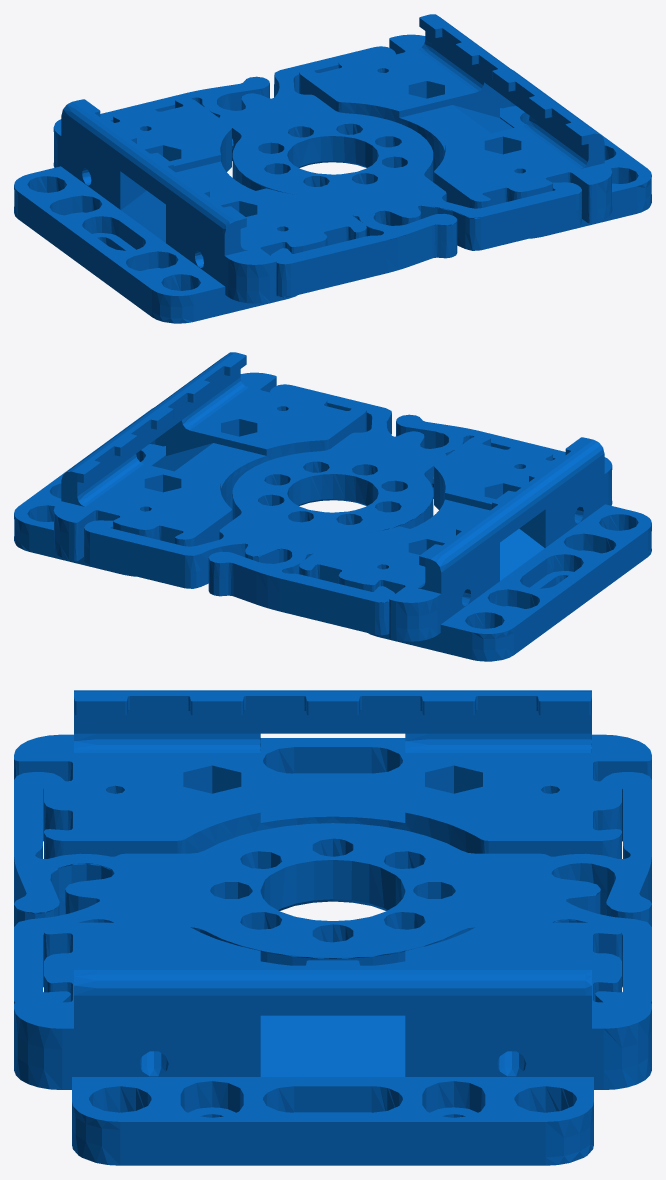
The model's file is qb_base_flange_m.dae.
3 renders of one model, top to bottom at view 1: azimuth 30°, elevation 25°; view 2: azimuth 150°, elevation 25°; view 3: azimuth 270°, elevation 25°, orthographic. The views are drawn at different scales.
Visible parts, largest first — view 1: Body_1, Body_2, Body_3, Body_5, Body_4; view 2: Body_1, Body_2, Body_3, Body_5, Body_4; view 3: Body_3, Body_2, Body_1, Body_4, Body_5.
Part boxes in pixels (<box>): Body_1: <box>100,46,581,297</box>; Body_2: <box>53,98,366,303</box>; Body_3: <box>299,14,612,223</box>; Body_5: <box>14,166,297,323</box>; Body_4: <box>433,70,651,238</box>; Body_1: <box>84,384,565,635</box>; Body_2: <box>299,436,612,641</box>; Body_3: <box>53,352,366,561</box>; Body_5: <box>368,504,651,661</box>; Body_4: <box>14,408,232,576</box>; Body_3: <box>14,922,651,1089</box>; Body_2: <box>14,690,651,858</box>; Body_1: <box>14,772,651,1003</box>; Body_4: <box>72,1077,593,1165</box>; Body_5: <box>260,738,405,781</box>.
Size of the model in its own units: 0.094 by 0.066 by 0.0163.
